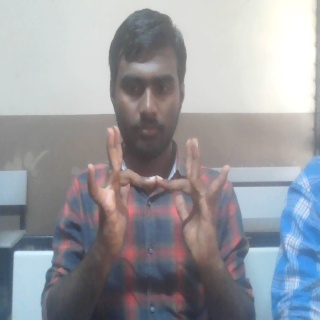Internet: (84, 122, 232, 268)
